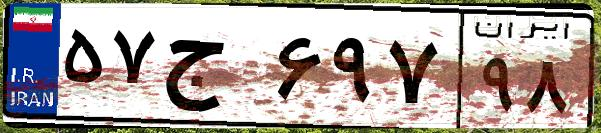5: (57, 26, 110, 100)
6: (270, 28, 330, 110)
7: (385, 28, 445, 110), (110, 28, 158, 98)
8: (525, 38, 570, 115)
9: (330, 28, 385, 110), (475, 38, 525, 113)
ج: (158, 20, 270, 120)
